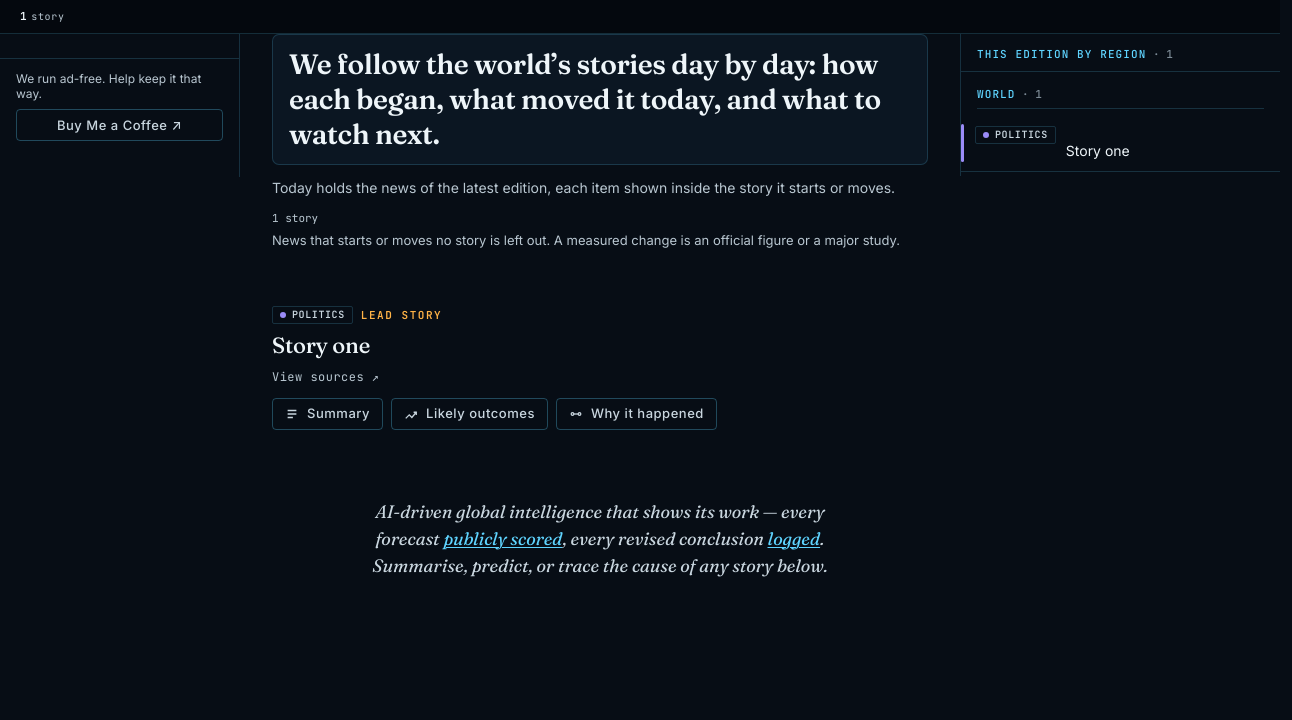
it: /today failure states › an empty result is the honest unavailable state with a working Retry, reported
Click the button "Summary" at coordinates (328, 414), box [272,398,383,430]
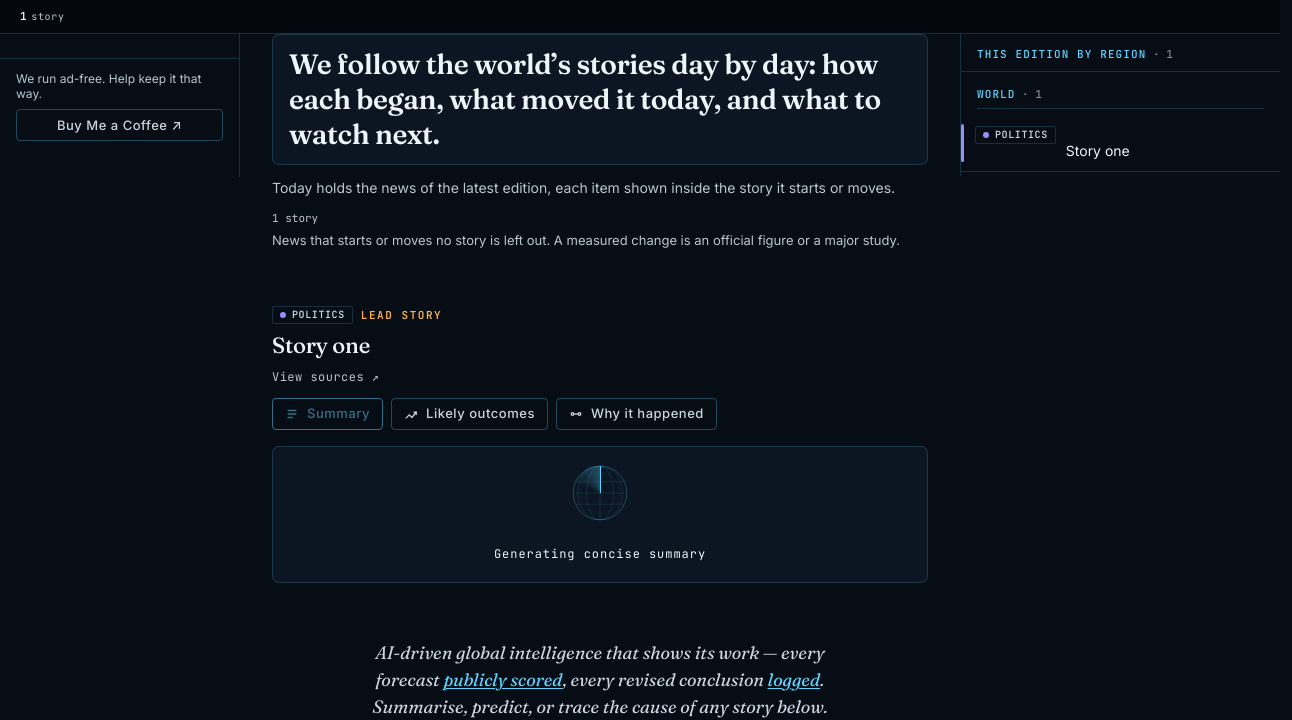
Click the button "Why it happened" at coordinates (636, 414), box [556,398,717,430]
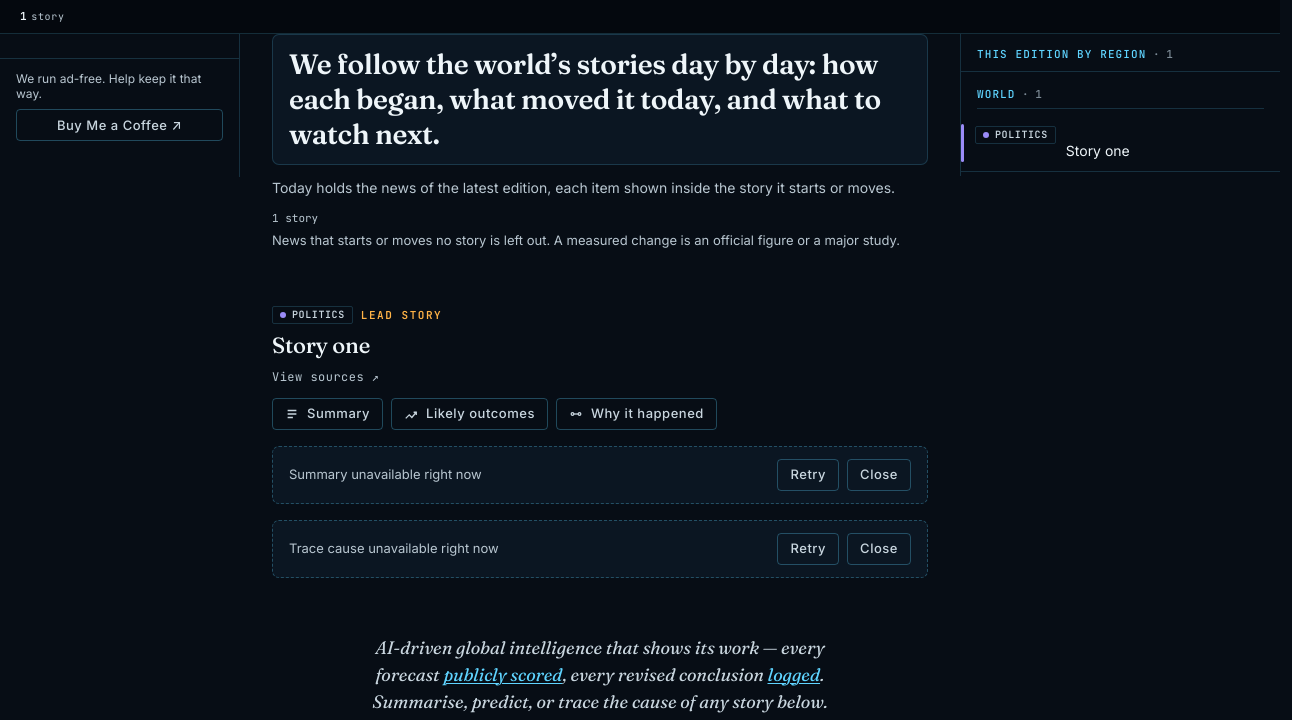
Expected: the text "Summary unavailable right now" is shown, [289,465,482,484]
Expected: the text "Trace cause unavailable right now" is shown, [289,539,499,558]
Click the 1st button "Retry" at coordinates (808, 474), box [778,458,839,490]
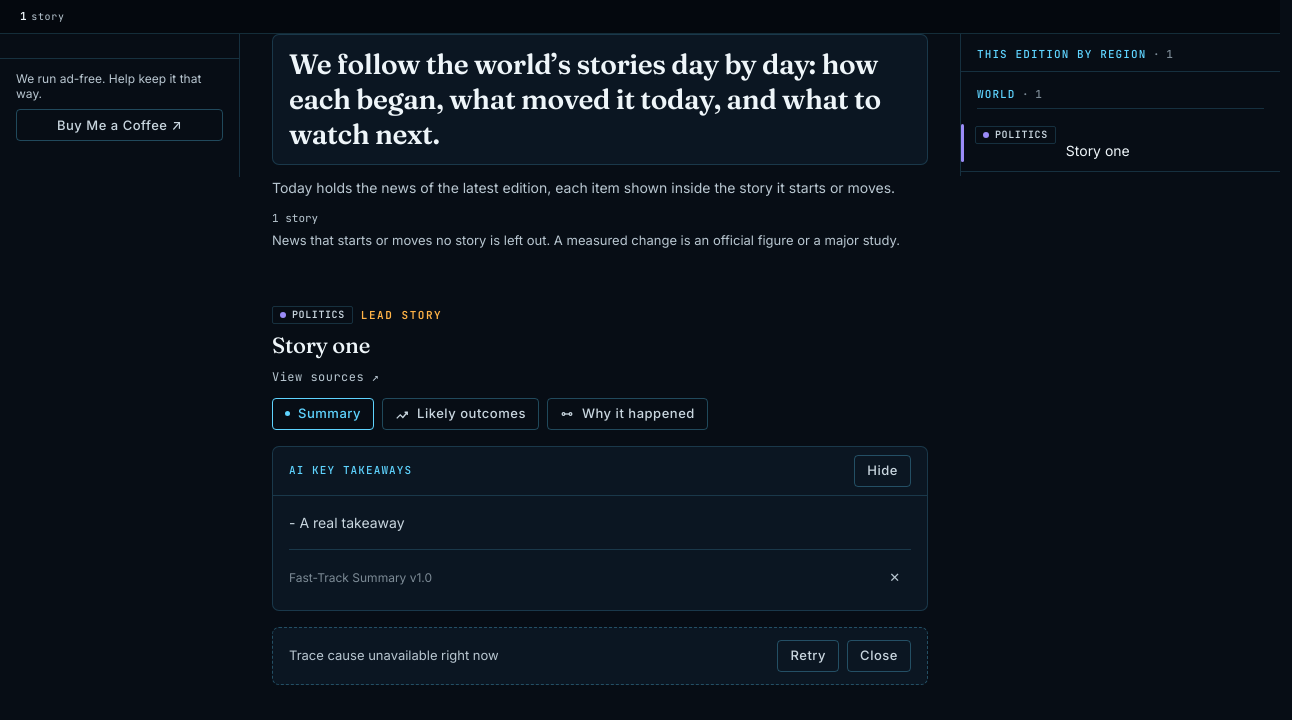
Expected: the text "- A real takeaway" is shown, [289,514,404,530]
